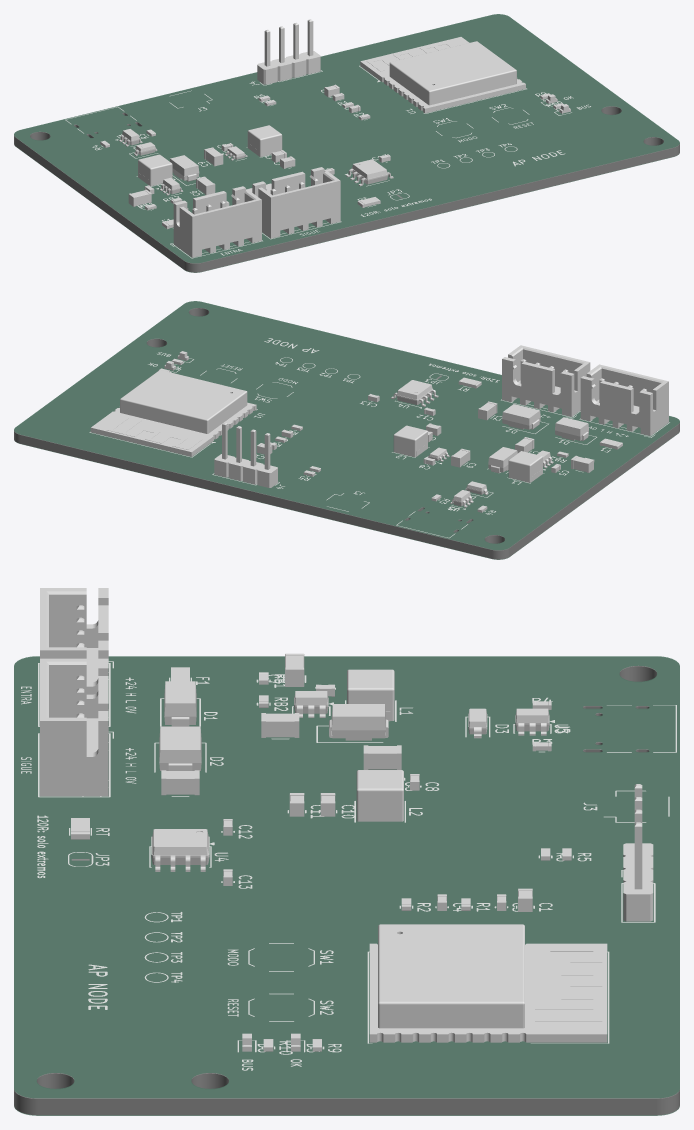
3 views of the same model, one above another, from view 1: azimuth 30°, elevation 25°; view 2: azimuth 150°, elevation 25°; view 3: azimuth 270°, elevation 25° (orthographic). The views are drawn at different scales.
Parts seen in each view (by area): view 1: =>[0:1:1:23], =>[0:1:1:21], U1, J1, J2, =>[0:1:1:19], J4, L2, L1, U4, =>[0:1:1:22], D4; view 2: =>[0:1:1:23], =>[0:1:1:21], U1, J1, J2, =>[0:1:1:19], J4, L2, L1, D2, U4, D1 (+2 smaller); view 3: =>[0:1:1:23], =>[0:1:1:21], U1, J2, =>[0:1:1:19], J1, J4, L2, U4, D4, D2, L1 (+6 smaller).
Boxes of the visible parts, x1,y1,x2,y2 form: =>[0:1:1:23]: (14, 15, 679, 272); =>[0:1:1:21]: (14, 14, 679, 263); U1: (360, 37, 525, 113); J1: (173, 186, 261, 257); J2: (252, 167, 340, 238); =>[0:1:1:19]: (65, 65, 590, 258); J4: (257, 19, 320, 84); L2: (247, 125, 282, 156); L1: (138, 154, 172, 186); U4: (346, 159, 393, 186); =>[0:1:1:22]: (15, 146, 678, 272); D4: (170, 155, 199, 181); =>[0:1:1:23]: (14, 302, 679, 559); =>[0:1:1:21]: (14, 301, 679, 550); U1: (90, 370, 256, 456); J1: (580, 364, 668, 435); J2: (502, 345, 590, 416); =>[0:1:1:19]: (89, 338, 669, 538); J4: (214, 422, 277, 487); L2: (393, 425, 427, 457); L1: (508, 451, 542, 482); D2: (502, 404, 540, 429); U4: (391, 380, 438, 406); D1: (555, 417, 588, 440); =>[0:1:1:23]: (14, 657, 679, 1115); =>[0:1:1:21]: (14, 656, 679, 1098); U1: (369, 924, 607, 1042); J2: (40, 658, 108, 796); =>[0:1:1:19]: (21, 661, 676, 1070); J1: (40, 588, 108, 694); J4: (623, 784, 653, 921); L2: (356, 770, 403, 821); U4: (151, 829, 209, 871); D4: (329, 704, 388, 740); D2: (159, 726, 201, 770); L1: (347, 669, 394, 721).
Bounding box in the file's own units: 0.088 × 0.0119 × 0.056.
